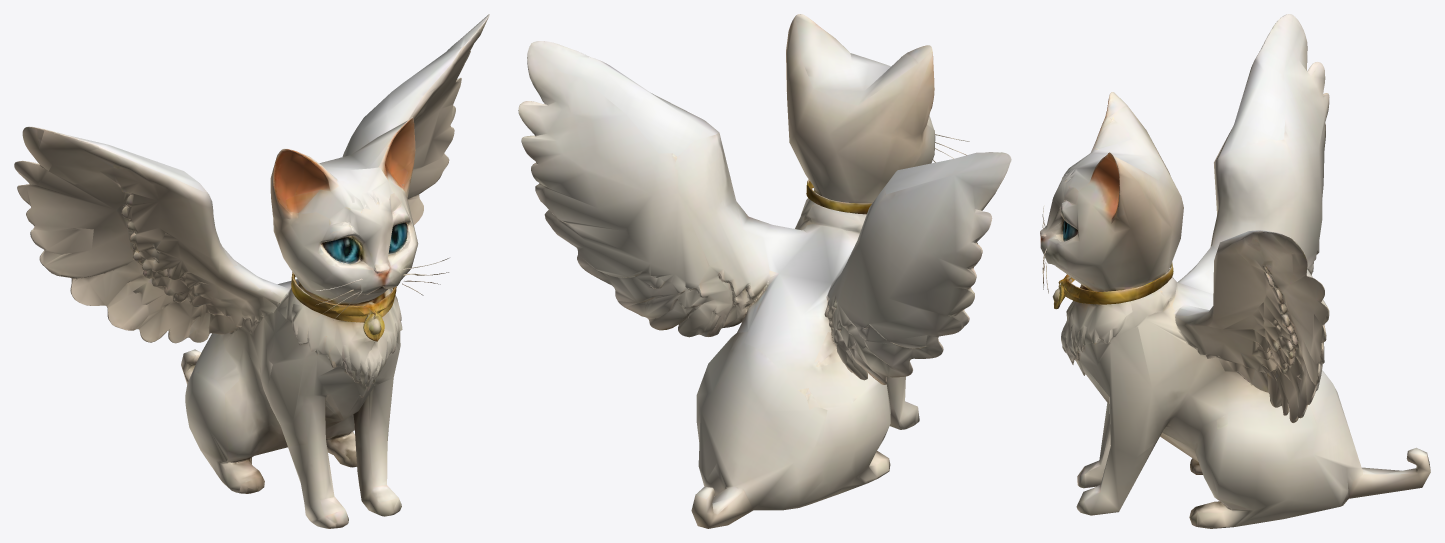
File: pet_angel.glb
3 renders of one model, left to right at view 1: azimuth 30°, elevation 25°; view 2: azimuth 150°, elevation 25°; view 3: azimuth 270°, elevation 25°, orthographic. The views are drawn at different scales.
Parts seen in each view (by area): view 1: model_Material.001_0; view 2: model_Material.001_0; view 3: model_Material.001_0.
Part boxes in pixels (x1=…): model_Material.001_0: x1=14, y1=14, x2=489, y2=528; model_Material.001_0: x1=518, y1=14, x2=1011, y2=528; model_Material.001_0: x1=1040, y1=14, x2=1430, y2=528.
Size of the model in its own units: 1.9 by 1.48 by 1.39.
Materials: 1 (1 with a texture image).
